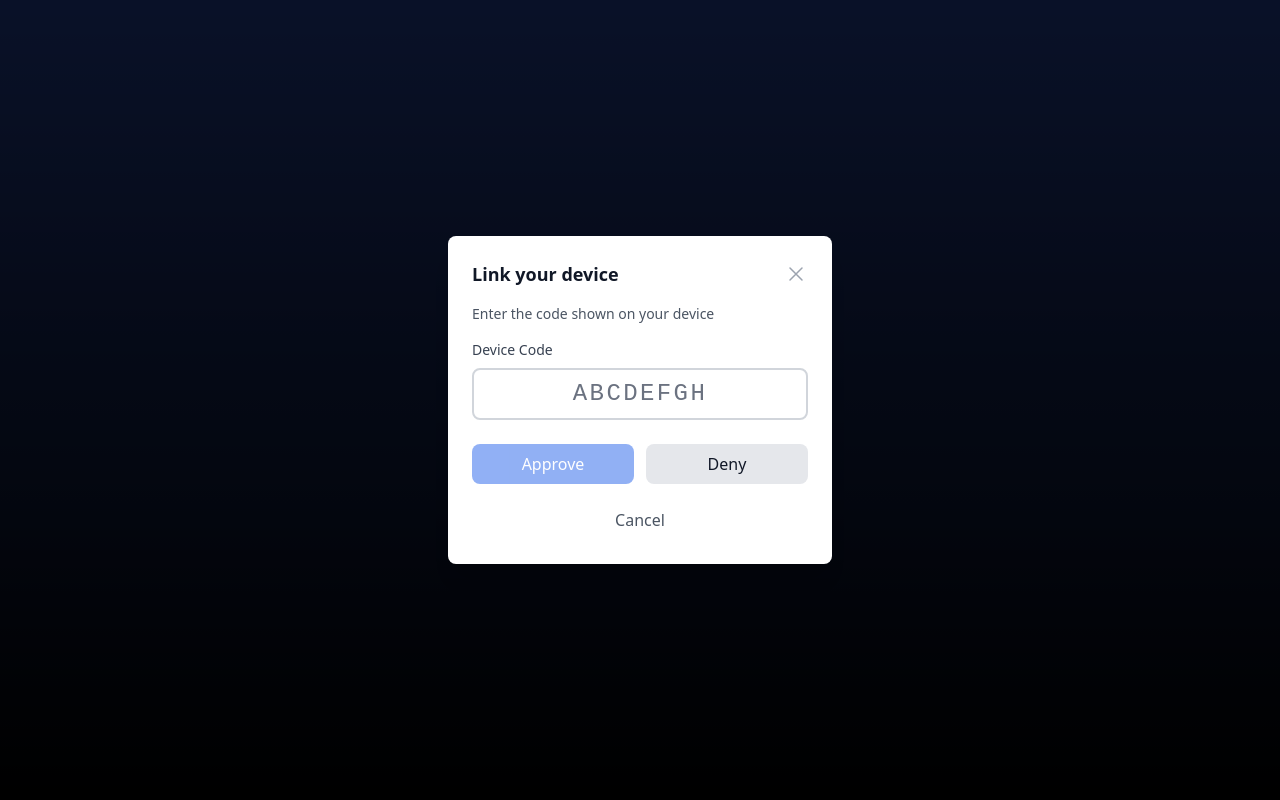
Test: the device-link dialog uses device-neutral instructions and success text
The image size is (1280, 800).
Expected: the heading "Link your device" is shown, [472,260,619,288]
Expected: the text "Enter the code shown on your device" is shown, [472,304,714,323]
In the field: (640,394) [472,368,808,420], type "abcdefgh"
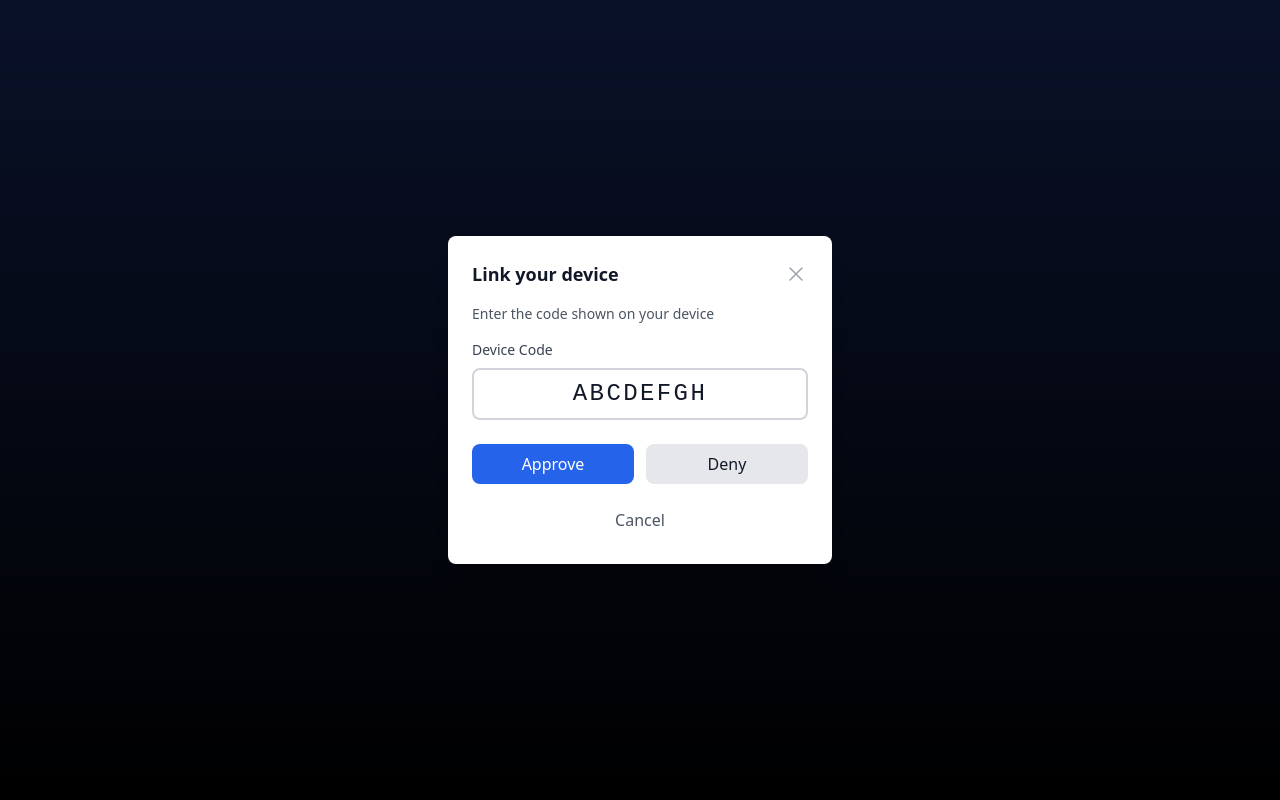
Click the button "Approve": (553,464) [472,444,634,484]
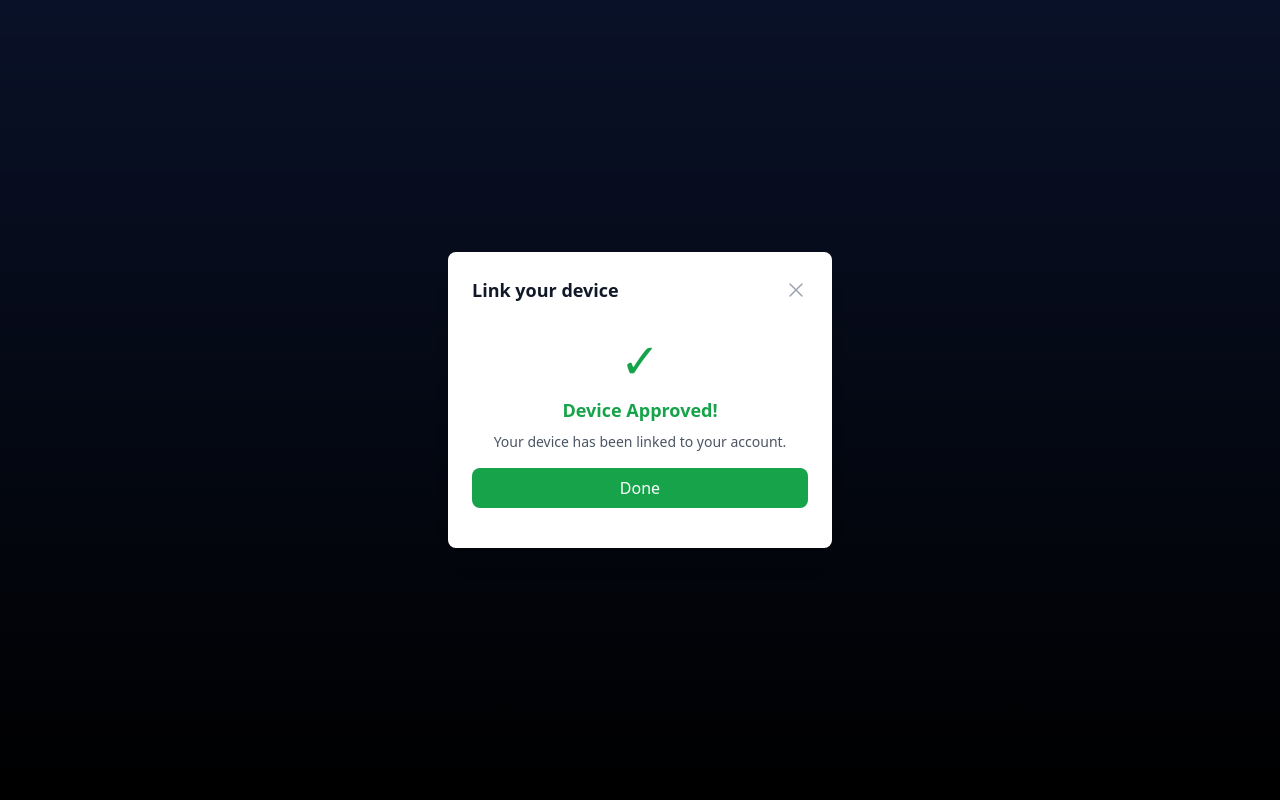
Expected: the text "Your device has been linked to your account." is shown, [472,432,808,452]
